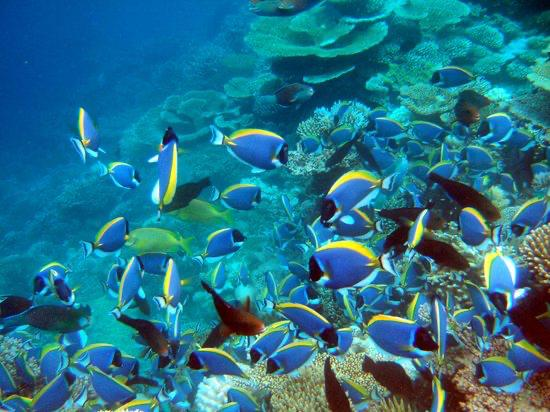Acanthuridae -Surgeonfishes-: (206, 119, 302, 176), (317, 169, 401, 230), (302, 241, 402, 292), (349, 309, 447, 360), (481, 225, 532, 314), (65, 101, 111, 167), (263, 336, 321, 378), (61, 342, 131, 376), (472, 353, 541, 386), (80, 216, 133, 258), (31, 258, 81, 298), (199, 226, 255, 259), (430, 64, 493, 92), (208, 182, 267, 211), (96, 158, 144, 190)
